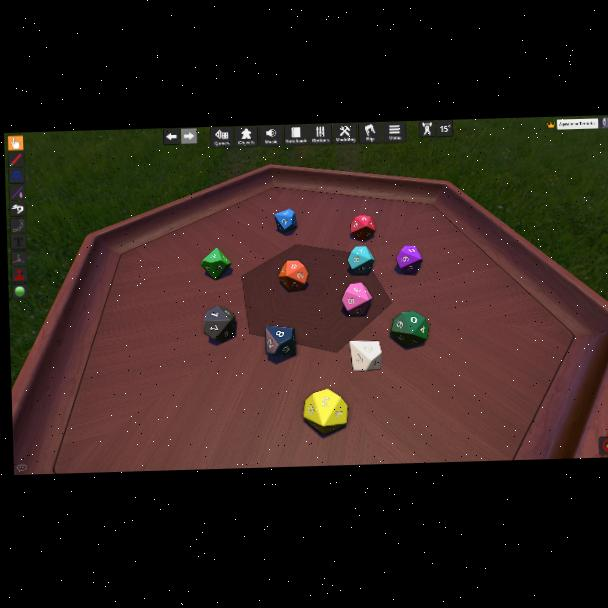d10: (302, 388, 347, 433), (390, 311, 428, 347), (203, 306, 237, 343), (264, 325, 296, 357), (343, 282, 374, 315), (349, 340, 382, 371), (201, 247, 231, 280), (278, 260, 308, 291), (347, 246, 375, 275), (396, 244, 422, 274), (349, 213, 375, 240), (274, 208, 298, 233)
